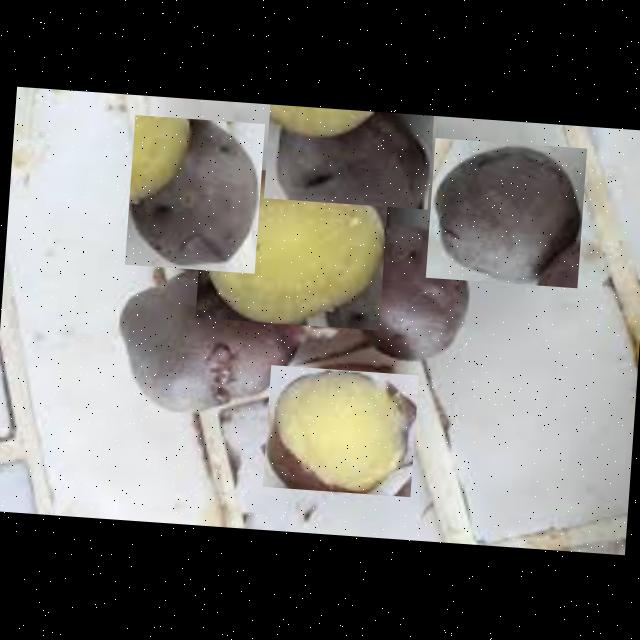Damaged potato: (106, 280, 297, 422), (424, 138, 586, 288), (124, 114, 264, 274), (344, 218, 480, 365), (262, 104, 432, 209)
Potato: (194, 166, 388, 330), (262, 364, 418, 496)
